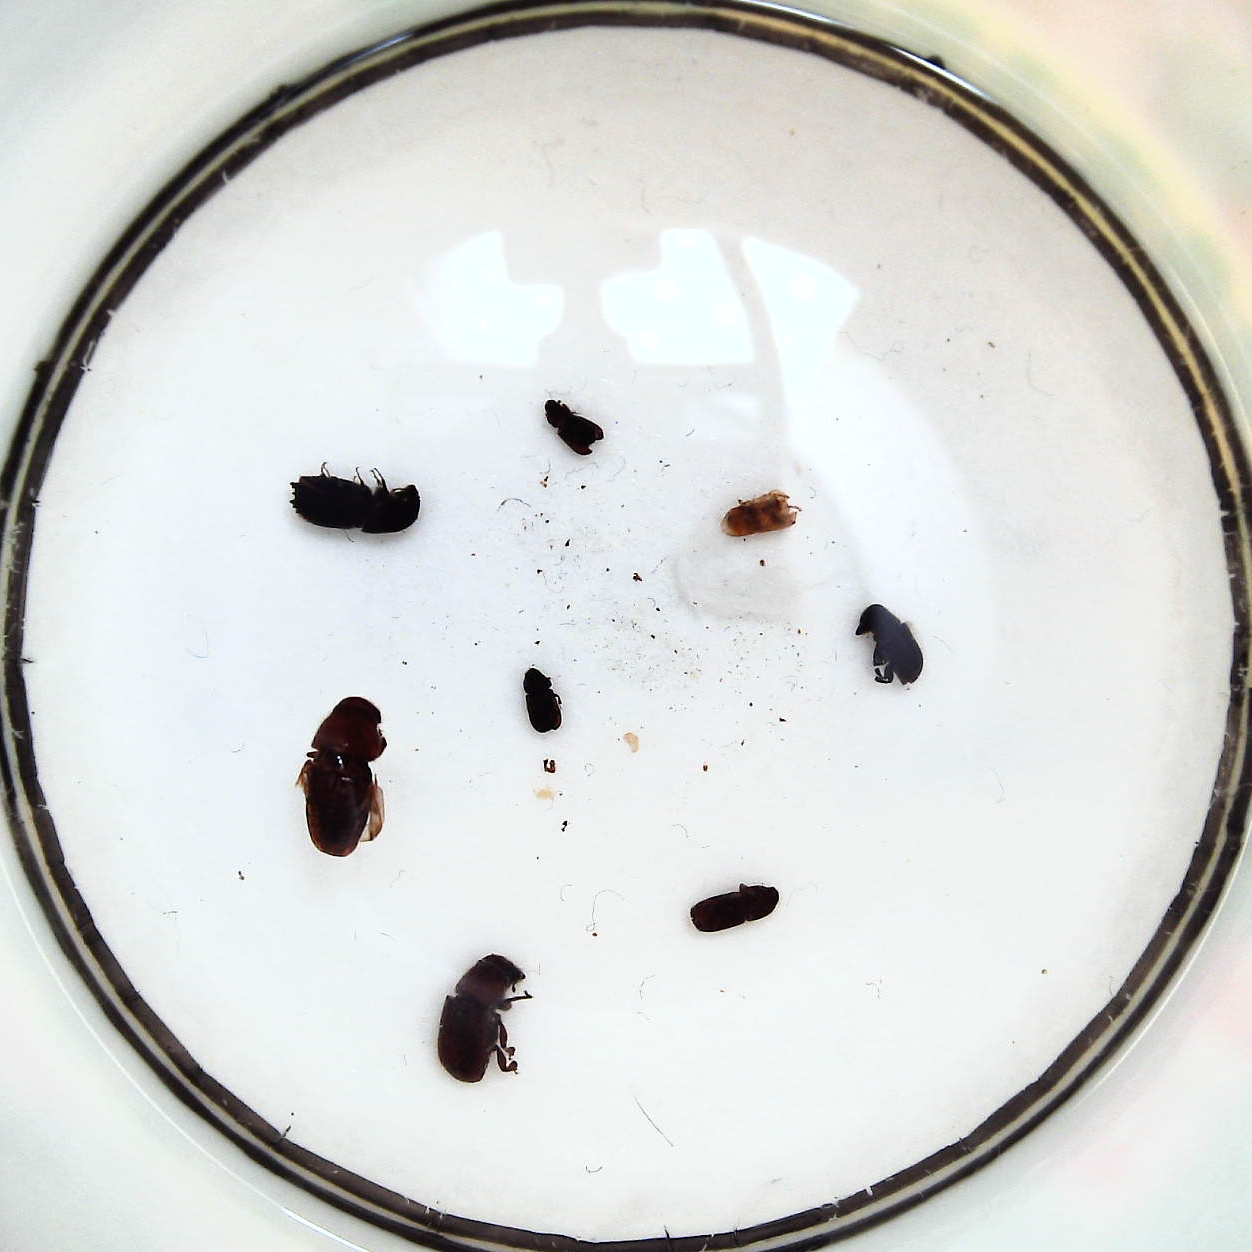Boerner: (289, 475, 418, 534)
Leconte: (304, 696, 388, 856), (437, 952, 526, 1083)
acuminatus: (543, 400, 604, 455), (522, 667, 562, 731)
armandi: (855, 604, 924, 684)
coleoptera: (721, 490, 797, 537)
linnaeus: (690, 885, 780, 932)
